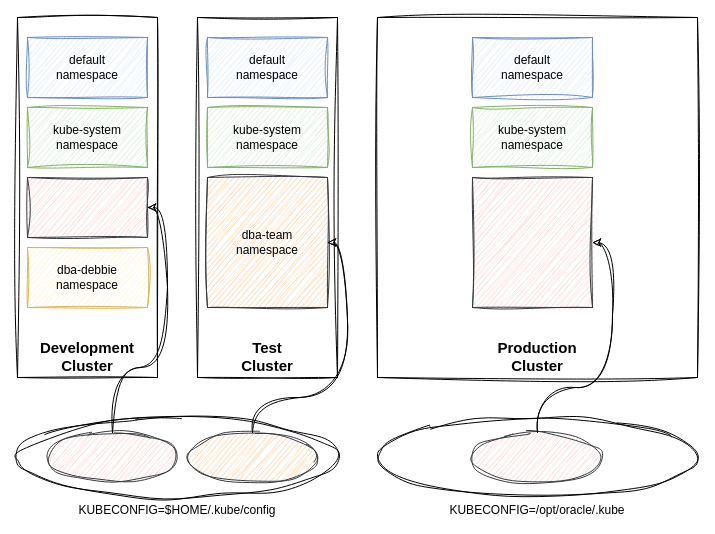
Image size: 715x534. Some labels were removed from this diagram. Here are the shapes that lost their labels. From the top down, the centre of each, then its label:
At (87,207): "dba-dave namespace".
At (532,242): "database namespace".
At (112,457): "Development Context".
At (252,457): "Test Context".
At (537,457): "Production Context".
